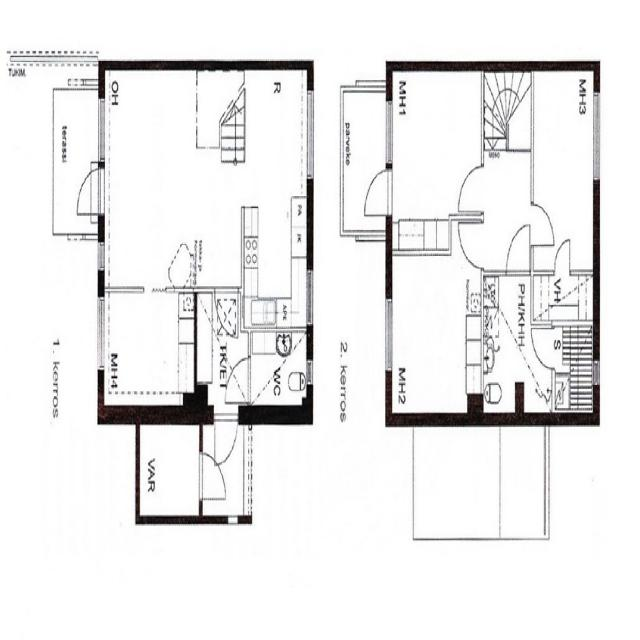door: (215, 406, 237, 469), (362, 169, 392, 215), (75, 169, 104, 214), (199, 454, 226, 499), (458, 166, 484, 212), (458, 223, 484, 269), (215, 288, 238, 338), (507, 226, 529, 276), (226, 360, 251, 403), (531, 206, 554, 246), (532, 329, 555, 368), (555, 240, 570, 276)
